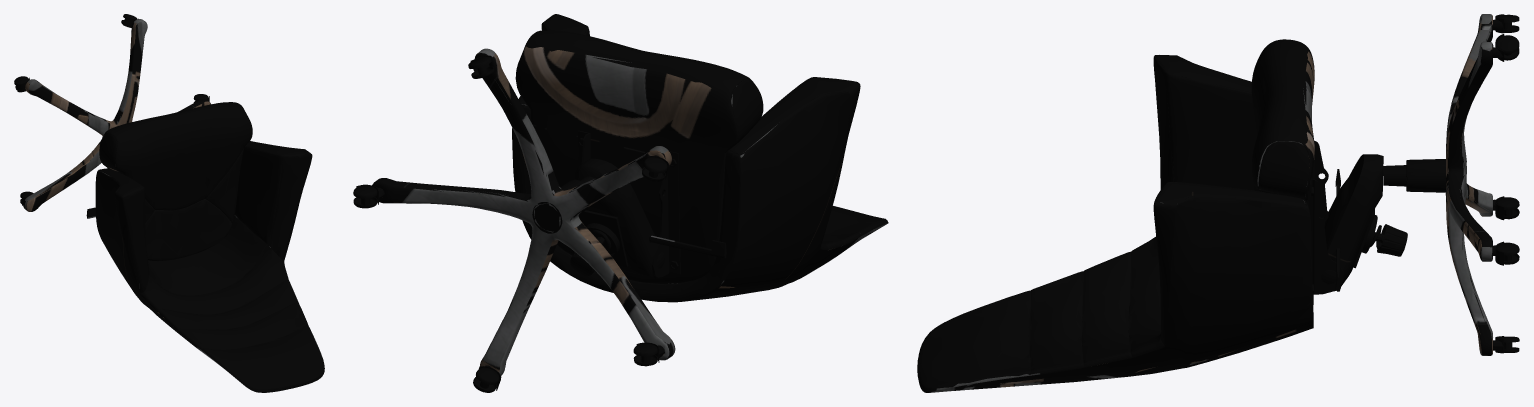
3 views of the same model, side by side, from view 1: azimuth 30°, elevation 25°; view 2: azimuth 150°, elevation 25°; view 3: azimuth 270°, elevation 25° (orthographic). The views are drawn at different scales.
Size of the model in its own units: 0.7545 by 0.8211 by 1.26.
